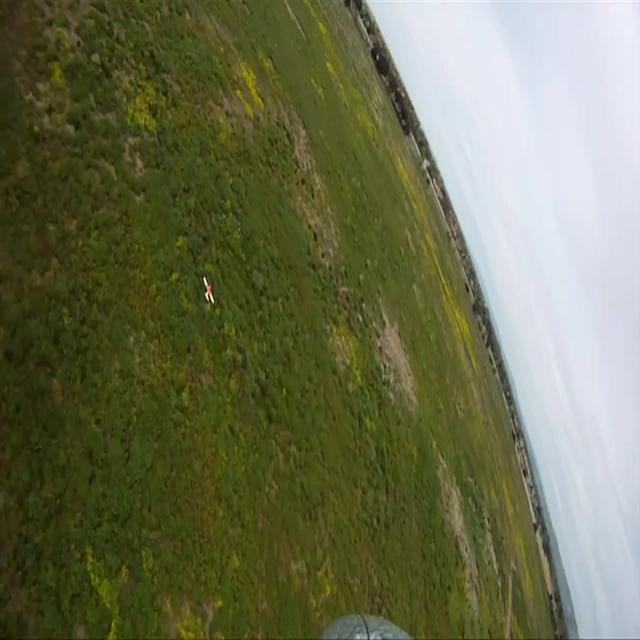iha: (201, 275, 216, 305)
